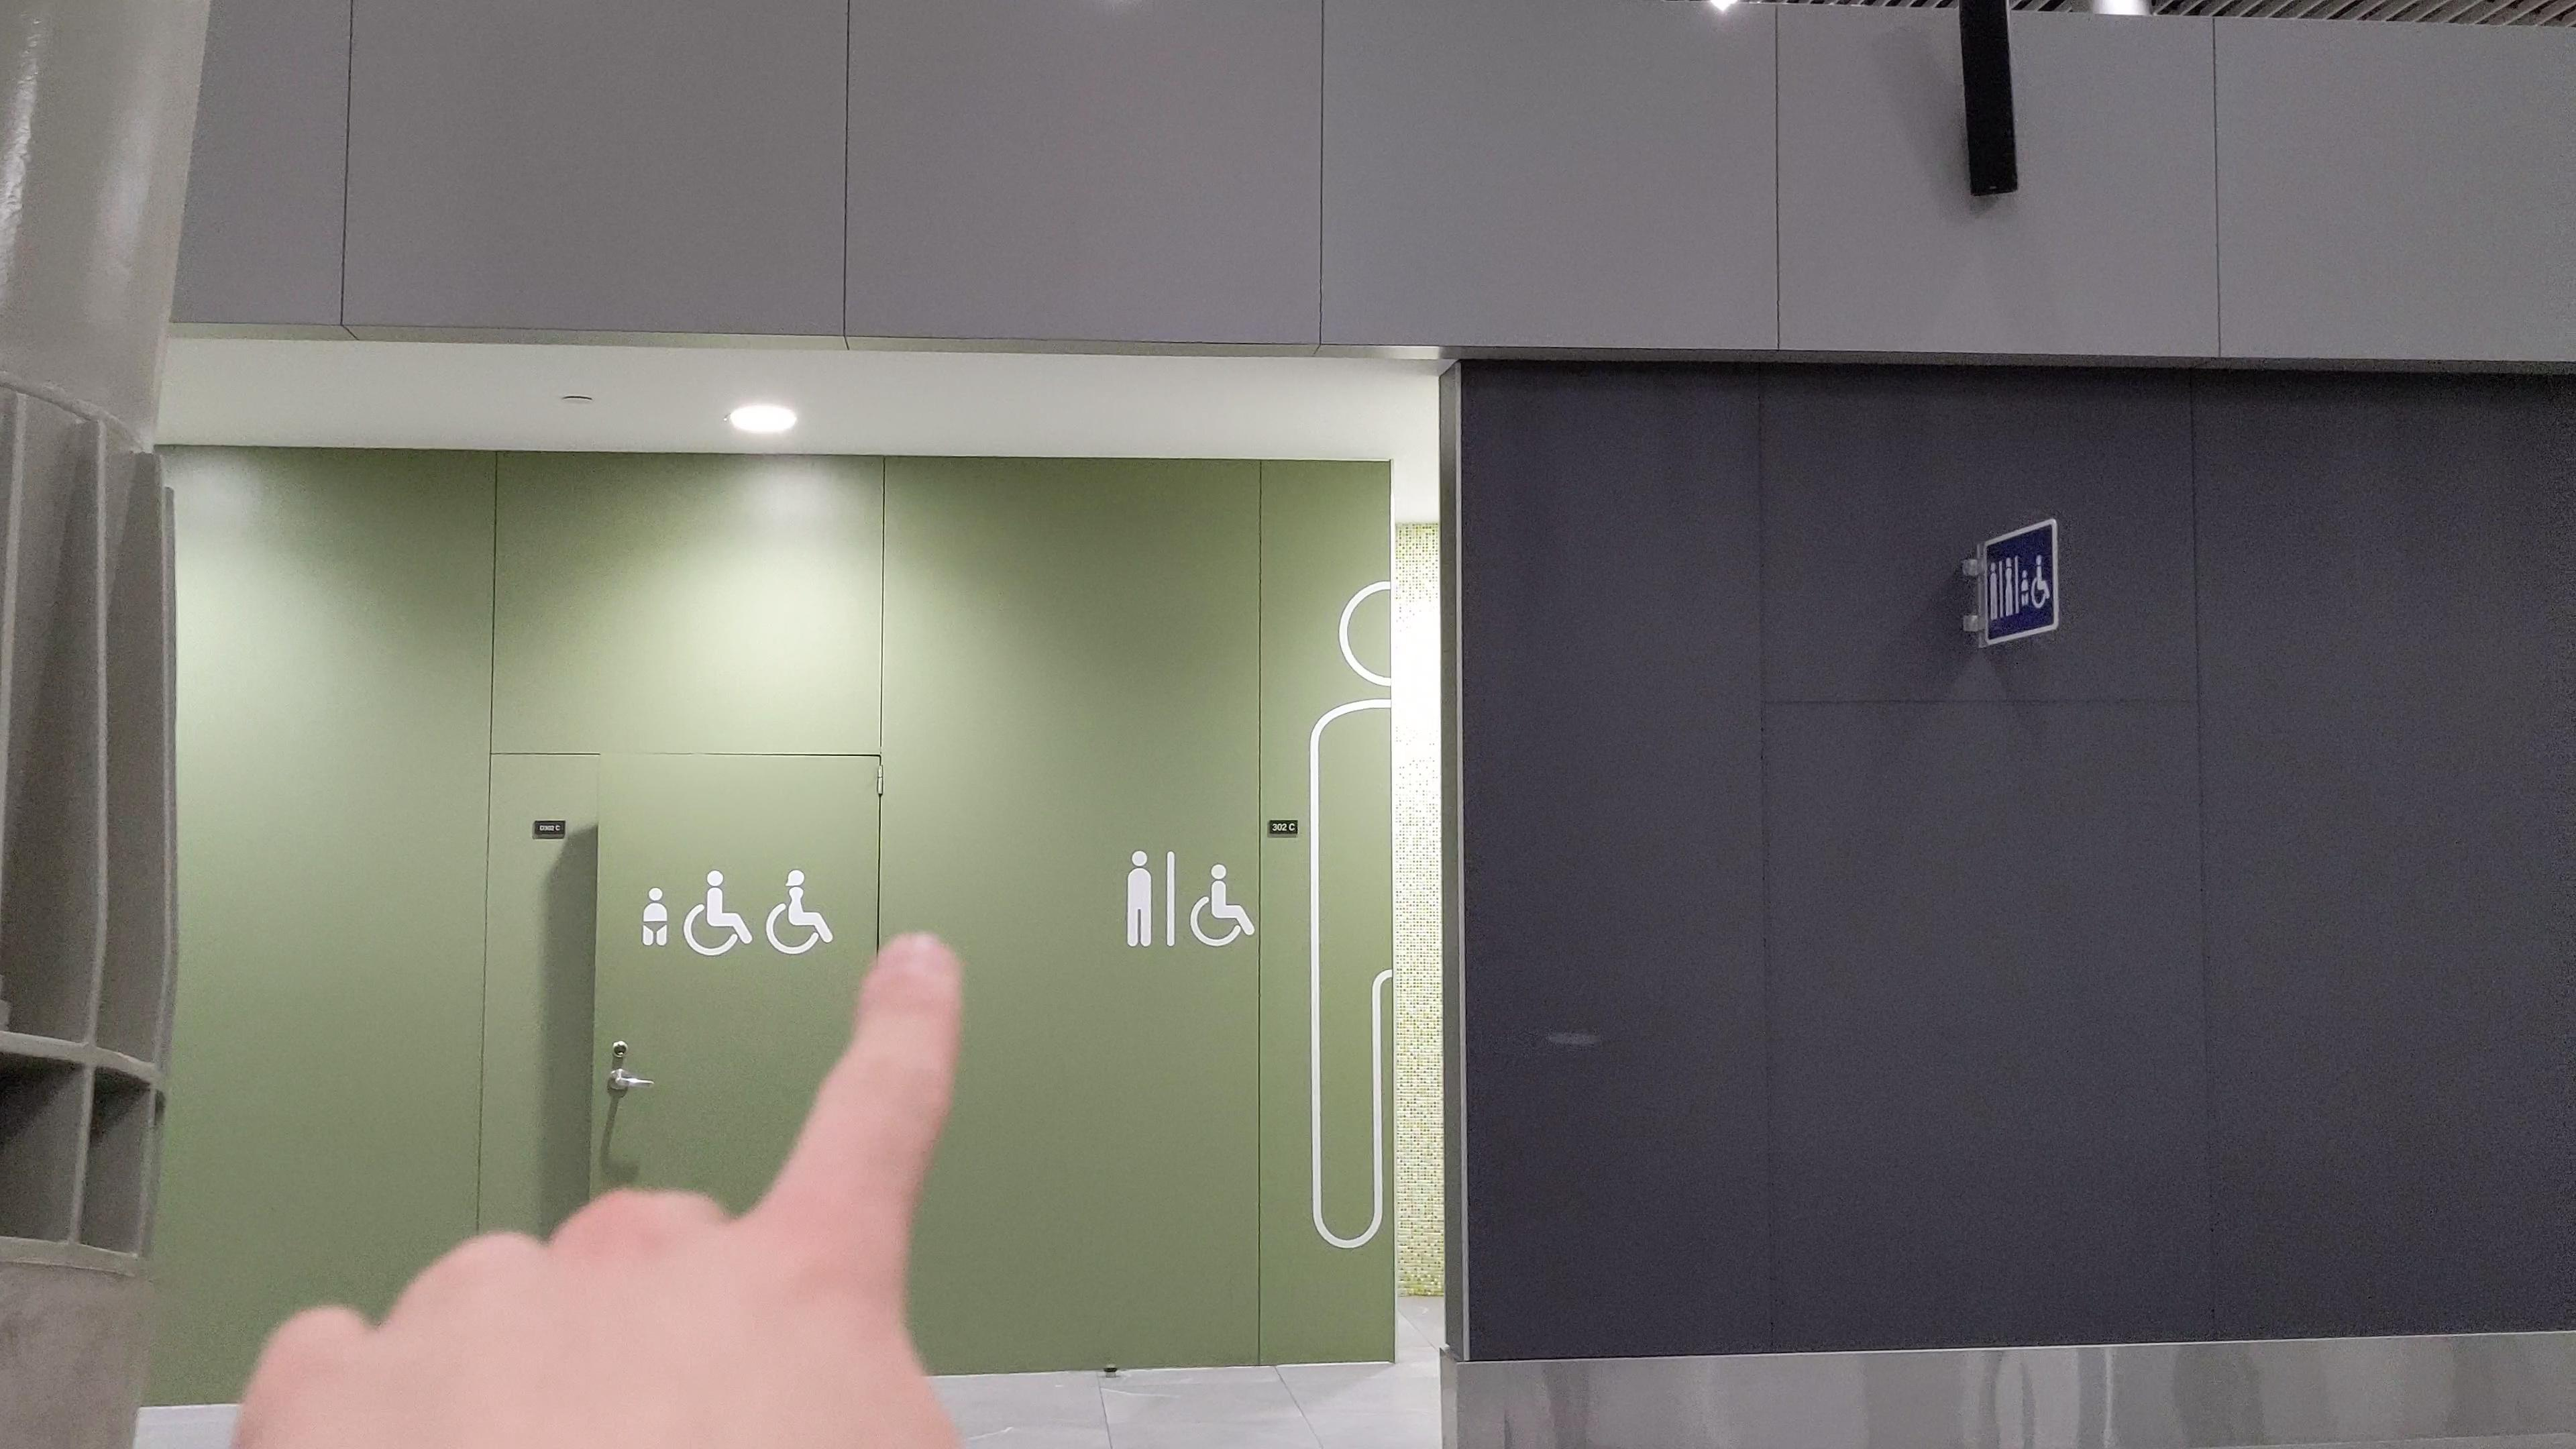bathrooms: (1989, 556, 2013, 621)
handicapped symbol: (761, 869, 837, 957), (683, 869, 755, 957), (1189, 862, 1258, 950), (2029, 556, 2052, 610)
